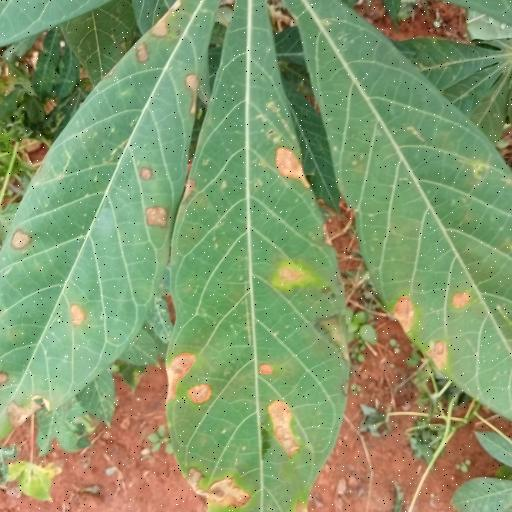Cassava_Brown_Leaf_Spot: (0, 16, 482, 509)
